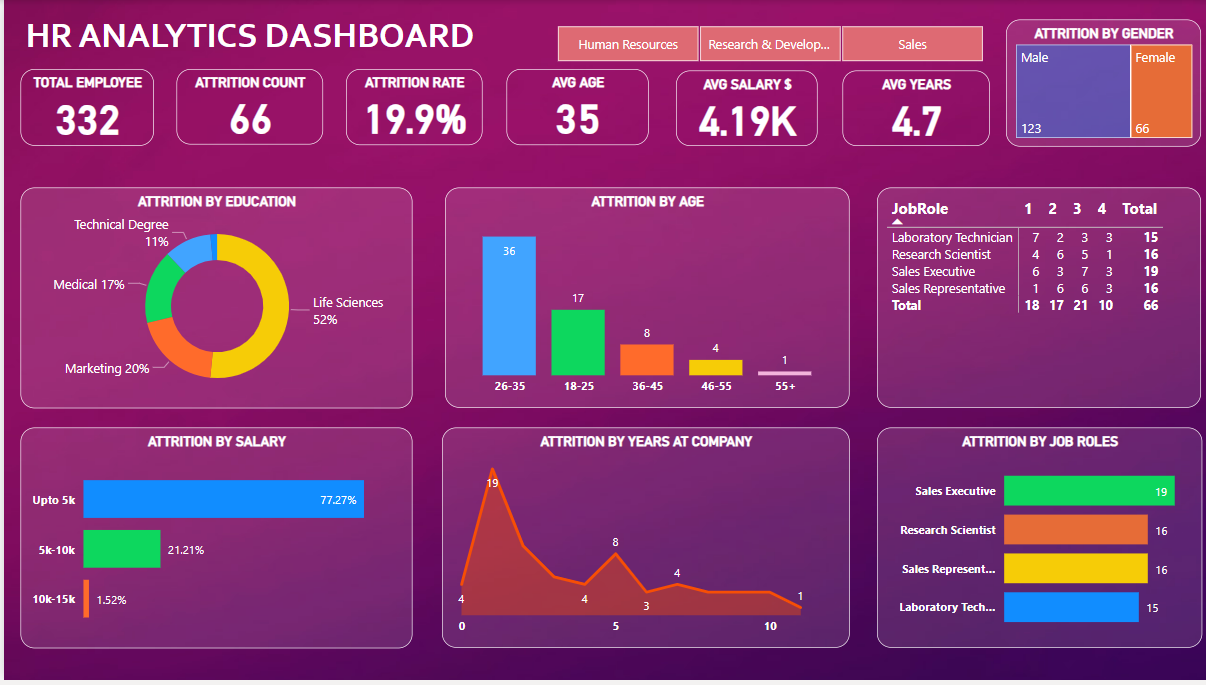

The page's visual inventory and layout, read from the dashboard file:
{"tool":"powerbi","page":{"name":"Page 1","canvas":[1280,720],"ordinal":0},"visuals":[{"type":"card","title":"TOTAL EMPLOYEE","fields":{"Values":["CountNonNull(HR_Analytics.EmpID)"]},"box":[17.5,72.5,141.2,81.2],"z":0},{"type":"card","title":"ATTRITION COUNT","fields":{"Values":["Sum(HR_Analytics.AttritionCount)"]},"box":[182.5,73.8,155,80],"z":1000},{"type":"card","title":"ATTRITION RATE","fields":{"Values":["HR_Analytics.Measure"]},"box":[361.9,73,144.4,81],"z":2000},{"type":"card","title":"AVG AGE","fields":{"Values":["Avg(HR_Analytics.Age)"]},"box":[531.7,73,150.8,81],"z":3000},{"type":"card","title":"AVG SALARY $","fields":{"Values":["Avg(HR_Analytics.MonthlyIncome)"]},"box":[712.8,74.4,150.3,80.2],"z":4000},{"type":"card","title":"AVG YEARS ","fields":{"Values":["Avg(HR_Analytics.YearsAtCompany)"]},"box":[888.9,74.4,156,80.2],"z":5000},{"type":"donutChart","title":"ATTRITION BY EDUCATION","fields":{"Category":["HR_Analytics.EducationField"],"Y":["Sum(HR_Analytics.AttritionCount)"]},"box":[17.5,198.8,415,233.8],"z":6000},{"type":"columnChart","title":"ATTRITION BY AGE","fields":{"Category":["HR_Analytics.AgeGroup"],"Y":["Sum(HR_Analytics.AttritionCount)"]},"box":[466.7,198.4,428.6,233.3],"z":7000},{"type":"pivotTable","fields":{"Rows":["HR_Analytics.JobRole"],"Columns":["HR_Analytics.JobSatisfaction"],"Values":["Sum(HR_Analytics.AttritionCount)"]},"box":[924.7,199,343.5,233.3],"z":8000},{"type":"clusteredBarChart","title":"ATTRITION BY SALARY","fields":{"Category":["HR_Analytics.SalarySlab"],"Y":["Sum(HR_Analytics.AttritionCount)"]},"box":[17.5,452.5,415,233.8],"z":9000},{"type":"clusteredBarChart","title":"ATTRITION BY JOB ROLES","fields":{"Category":["HR_Analytics.JobRole"],"Y":["Sum(HR_Analytics.AttritionCount)"]},"box":[925.4,452.4,344.4,233.3],"z":10000},{"type":"areaChart","title":"ATTRITION BY YEARS AT COMPANY","fields":{"Category":["HR_Analytics.YearsAtCompany"],"Y":["Sum(HR_Analytics.AttritionCount)"]},"box":[463.5,452.4,431.7,233.3],"z":11000},{"type":"treemap","title":"ATTRITION BY GENDER","fields":{"Group":["HR_Analytics.Gender"],"Values":["Sum(HR_Analytics.AttritionCount)"]},"box":[1061.9,20.6,206.3,134.9],"z":12000},{"type":"slicer","title":"DEPARTMENTS","fields":{"Values":["HR_Analytics.Department"]},"box":[561.2,21.2,500,51.2],"z":13000},{"type":"textbox","box":[0,10,521.2,57.5],"z":14000}]}

Visuals, with their boxes in screenshot pixels (x1, y1, x2, y2), scaled from the page's 1280x720 canvas onto the 1206x685 screenshot:
"TOTAL EMPLOYEE" card: x1=16 y1=69 x2=150 y2=146
"ATTRITION COUNT" card: x1=172 y1=70 x2=318 y2=146
"ATTRITION RATE" card: x1=341 y1=69 x2=477 y2=147
"AVG AGE" card: x1=501 y1=69 x2=643 y2=147
"AVG SALARY $" card: x1=672 y1=71 x2=813 y2=147
"AVG YEARS " card: x1=838 y1=71 x2=984 y2=147
"ATTRITION BY EDUCATION" donutChart: x1=16 y1=189 x2=407 y2=412
"ATTRITION BY AGE" columnChart: x1=440 y1=189 x2=844 y2=411
pivotTable - HR_Analytics.JobRole x HR_Analytics.JobSatisfaction: x1=871 y1=189 x2=1195 y2=411
"ATTRITION BY SALARY" clusteredBarChart: x1=16 y1=431 x2=407 y2=653
"ATTRITION BY JOB ROLES" clusteredBarChart: x1=872 y1=430 x2=1196 y2=652
"ATTRITION BY YEARS AT COMPANY" areaChart: x1=437 y1=430 x2=843 y2=652
"ATTRITION BY GENDER" treemap: x1=1001 y1=20 x2=1195 y2=148
"DEPARTMENTS" slicer: x1=529 y1=20 x2=1000 y2=69
textbox: x1=0 y1=10 x2=491 y2=64
